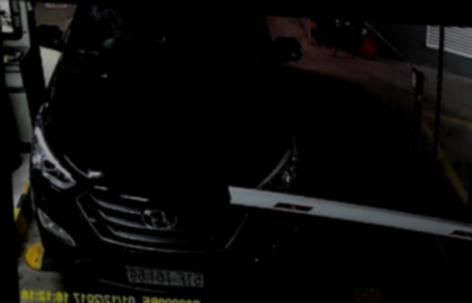License_Plate: (125, 262, 207, 290)
